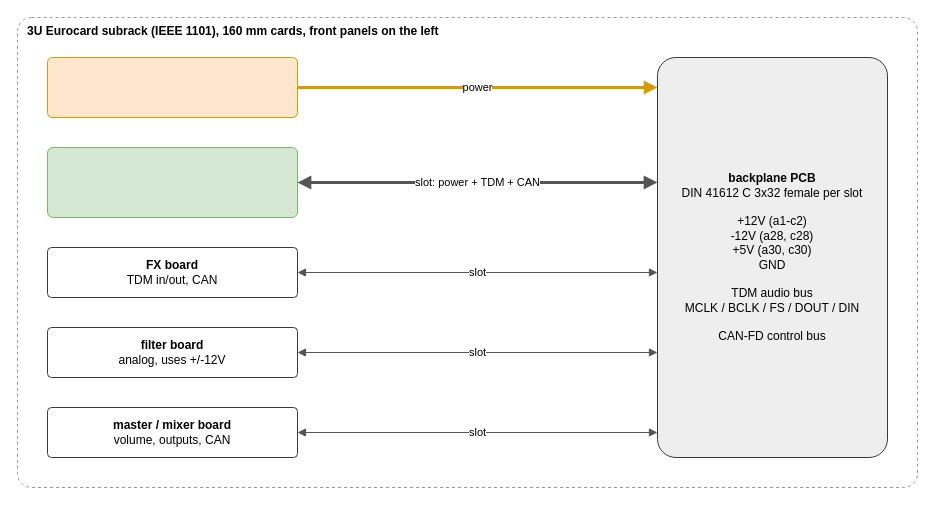
The diagram is 935 pixels wide and 505 high, and some of its shapes have lost their labels. Here are the shapes that lost their labels. From the top down, the box of each, then its label:
(46, 56, 298, 118): PSU card / module +12V, -12V, +5V
(46, 146, 298, 218): MAIN_COMPUTE_BOARD STM32H755 + XC7A100T TDM master clock, CAN host
